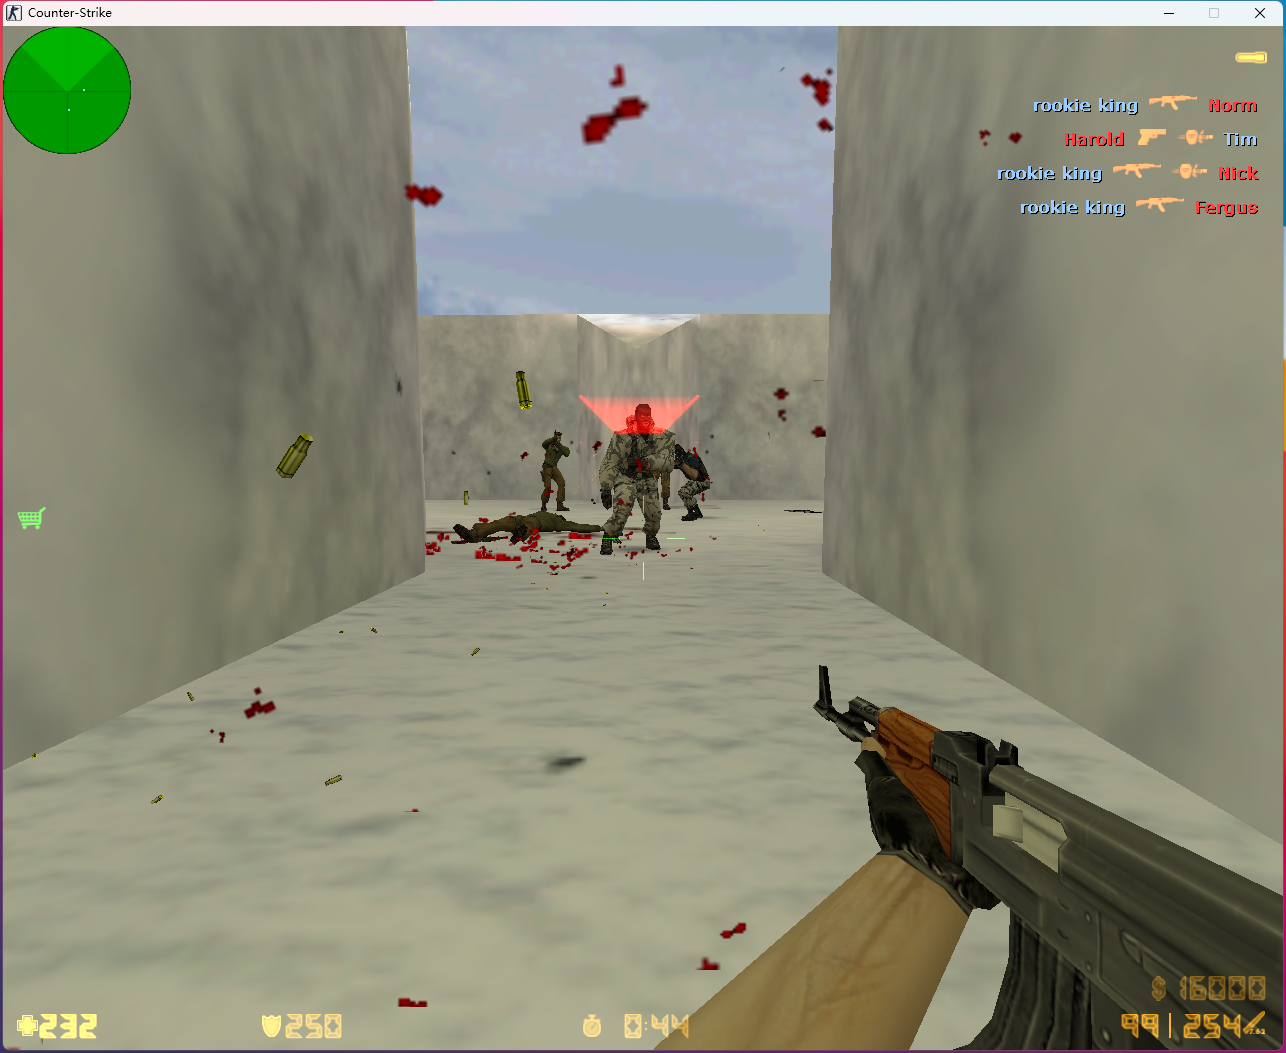T: (600, 400, 668, 556), (668, 442, 711, 521), (535, 431, 573, 513)
dead: (455, 510, 600, 549)
